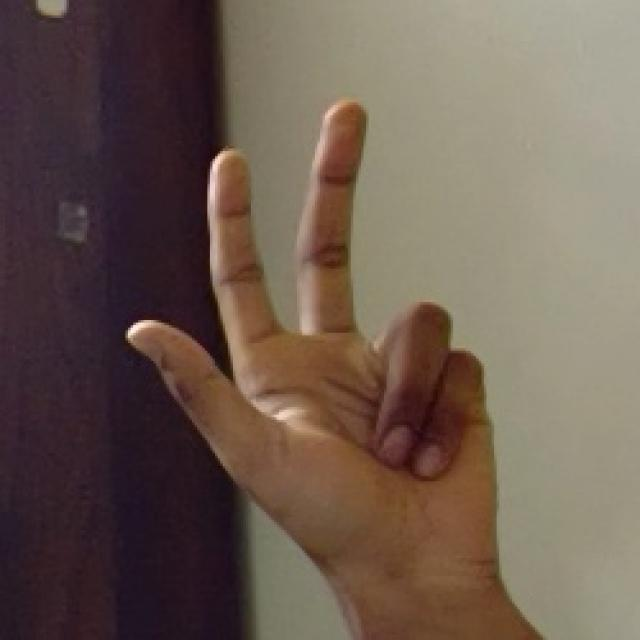Numeric-3: (126, 97, 502, 590)
